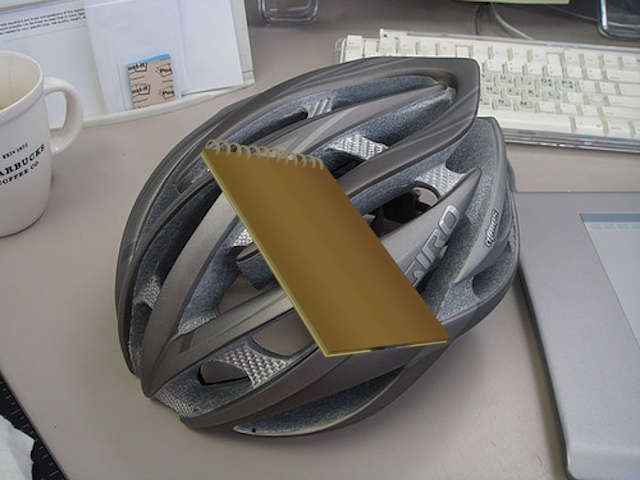paper_notebook: (192, 128, 465, 369)
